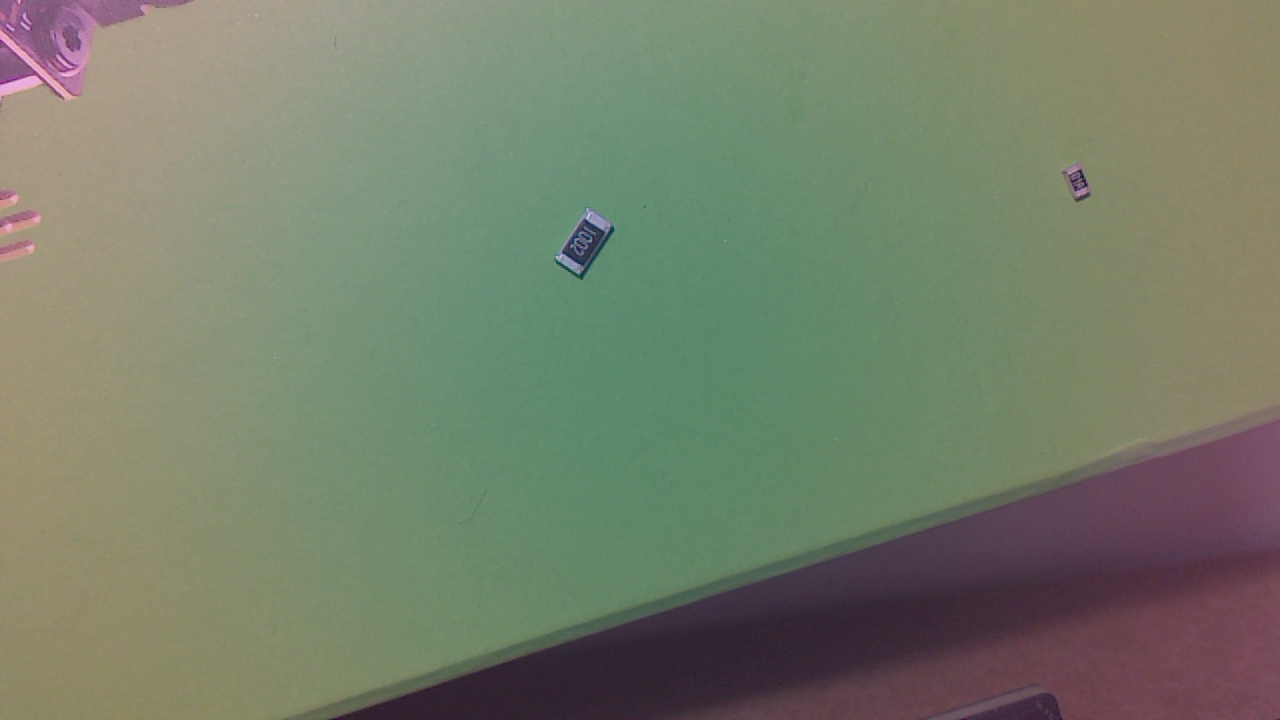Resistor: (558, 213, 621, 282), (1070, 168, 1096, 206)
